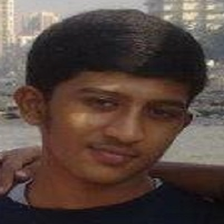no_mask: (49, 73, 179, 180)
